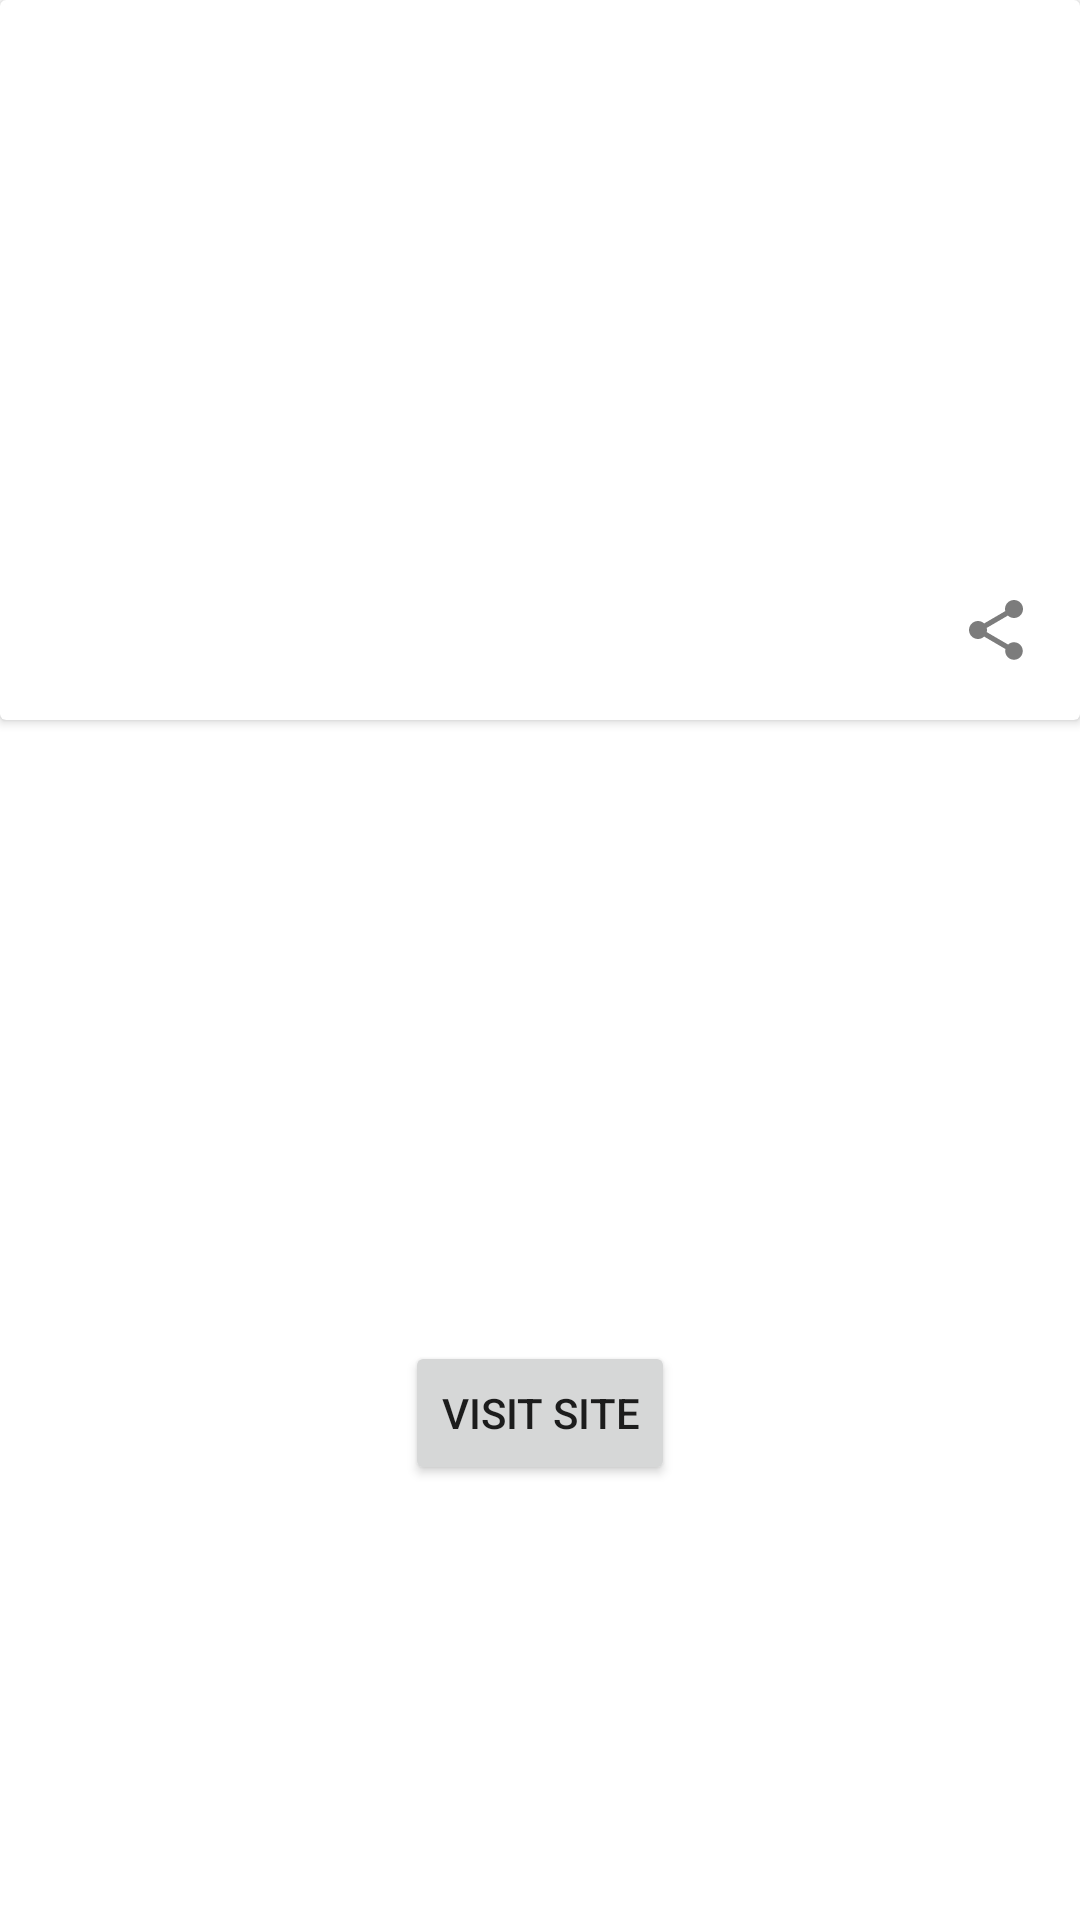

Where to tap for icons on this 1080px×1920px app screen, as (x=x, y=y):
share: (x=996, y=630)
